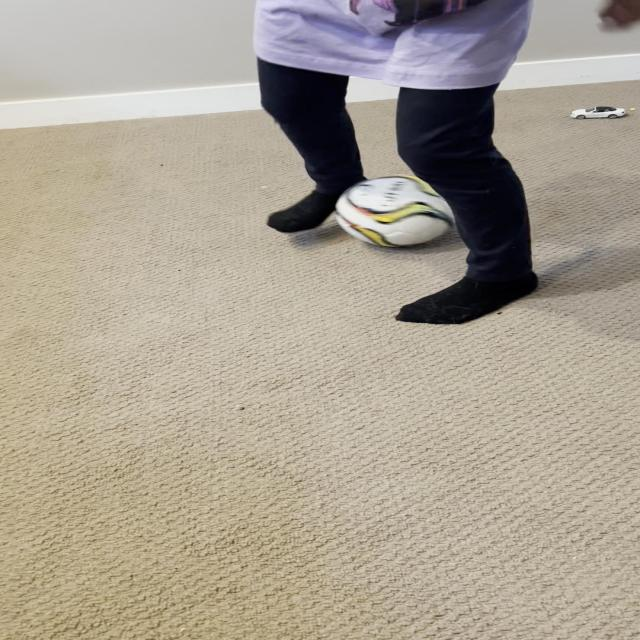Soccer Ball: (333, 174, 465, 247)
